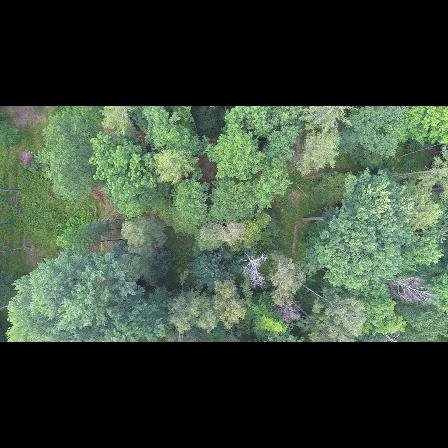Dead: (385, 272, 437, 305), (240, 251, 271, 290), (301, 281, 337, 307), (274, 298, 301, 323)
